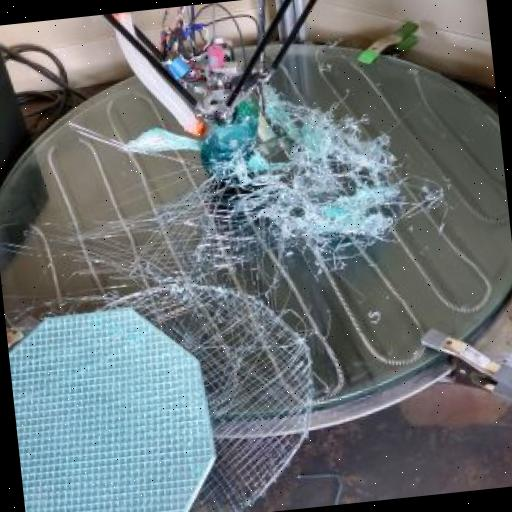spaghetti: (182, 75, 436, 285)
